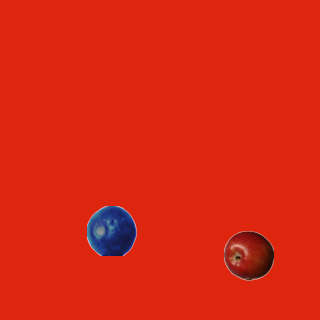Apple Braeburn: (223, 230, 273, 280)
Huckleberry: (86, 205, 136, 255)
